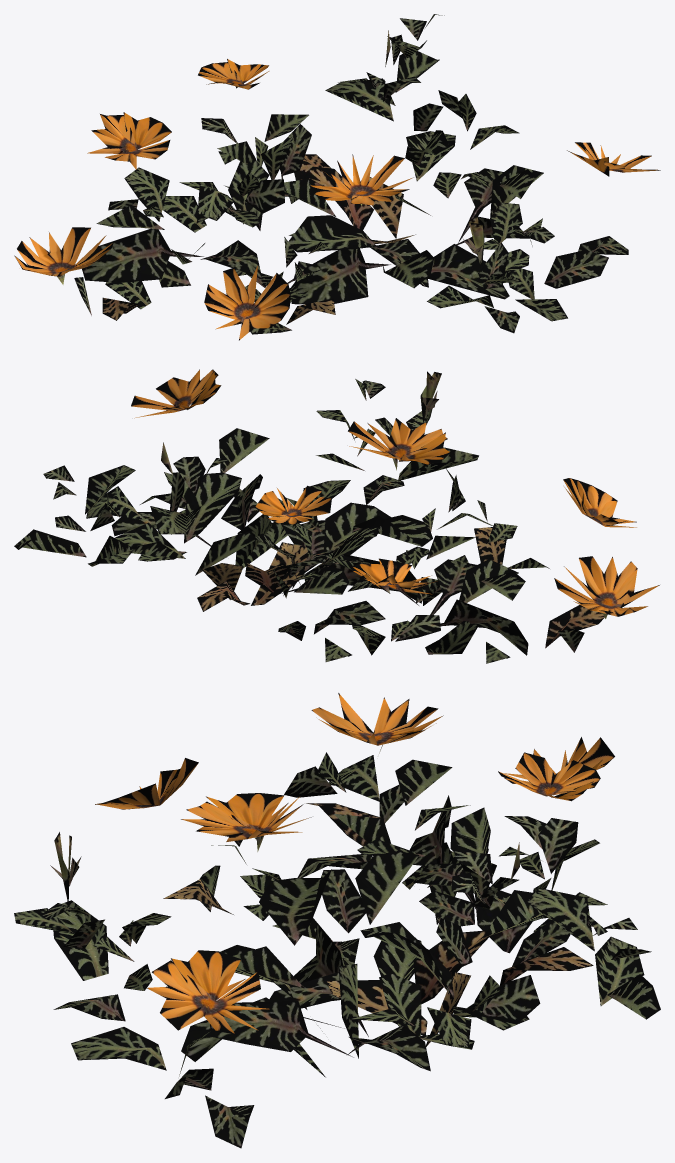
The model's file is flowers.glb.
The picture shows the model from 3 angles, top to bottom: view 1: azimuth 30°, elevation 25°; view 2: azimuth 150°, elevation 25°; view 3: azimuth 270°, elevation 25°; orthographic projection. The views are drawn at different scales.
Visible parts, largest first — view 1: flower_ursinia_a_LOD0; view 2: flower_ursinia_a_LOD0; view 3: flower_ursinia_a_LOD0.
Boxes of the visible parts, box(x1,y1,x2,y2) form: flower_ursinia_a_LOD0: box(14, 14, 660, 340); flower_ursinia_a_LOD0: box(14, 369, 659, 663); flower_ursinia_a_LOD0: box(14, 693, 660, 1148).
Bounding box in the file's own units: 0.4254 × 0.1305 × 0.3231.
1 material, 1 textured.
